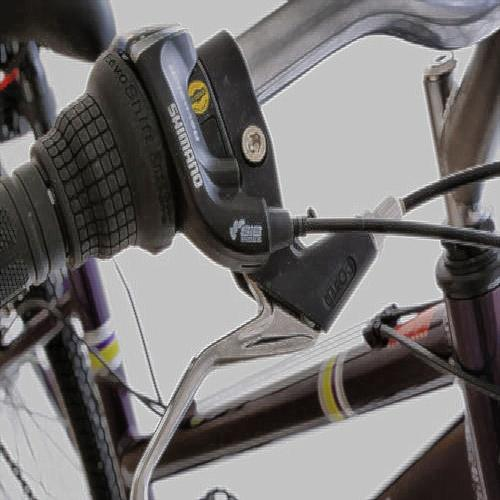bicycle: (40, 52, 466, 466)
